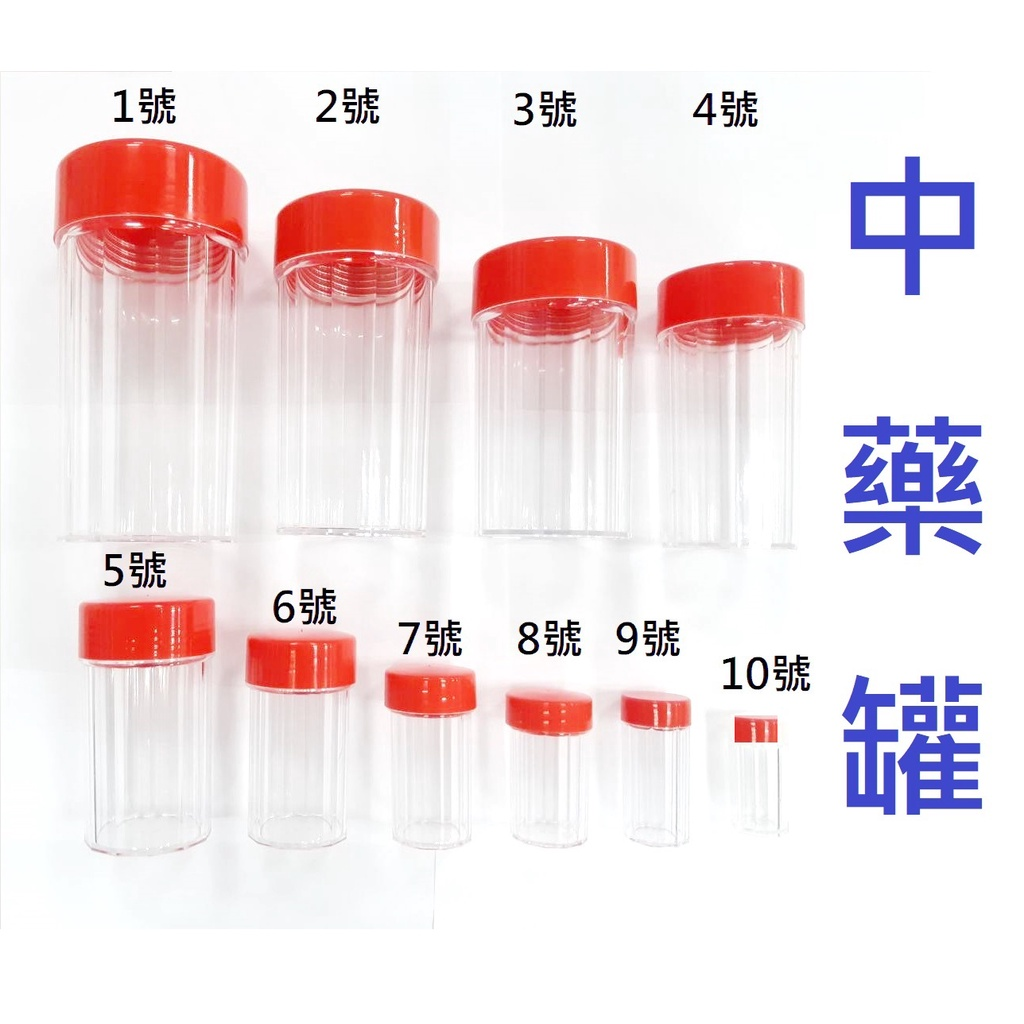medicinejar: (62, 139, 260, 569), (263, 196, 450, 551), (467, 227, 651, 556), (660, 266, 807, 573), (74, 591, 228, 859), (241, 629, 360, 862), (382, 657, 487, 861), (504, 681, 606, 856), (619, 690, 716, 866), (728, 705, 787, 839)
